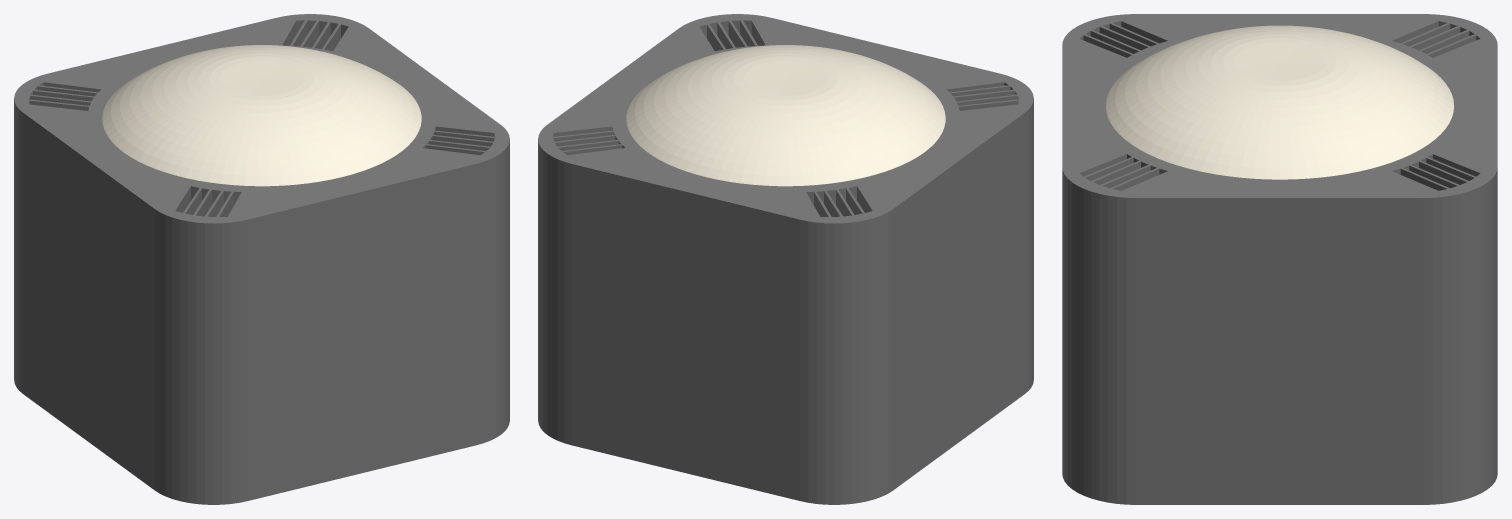
File: capteur6_1.glb
3 renders of one model, left to right at view 1: azimuth 30°, elevation 25°; view 2: azimuth 150°, elevation 25°; view 3: azimuth 270°, elevation 25°, orthographic. The views are drawn at different scales.
Parts seen in each view (by area): view 1: Capteur 6 en 1; view 2: Capteur 6 en 1; view 3: Capteur 6 en 1.
Part boxes in pixels (x1,y1,x2,y2): Capteur 6 en 1: [14, 14, 509, 504]; Capteur 6 en 1: [538, 14, 1033, 504]; Capteur 6 en 1: [1062, 14, 1497, 504].
Size of the model in its own units: 0.045 by 0.0401 by 0.045.
